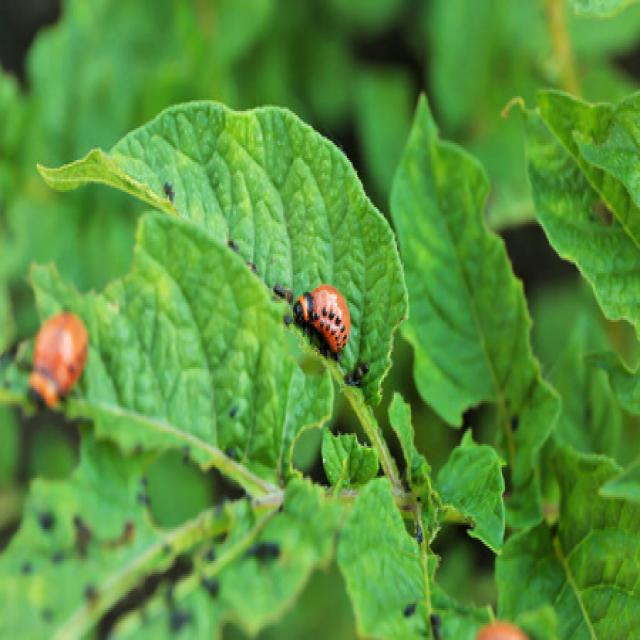ShuCaiHuaBanChong-Larva-: (280, 278, 363, 369)
